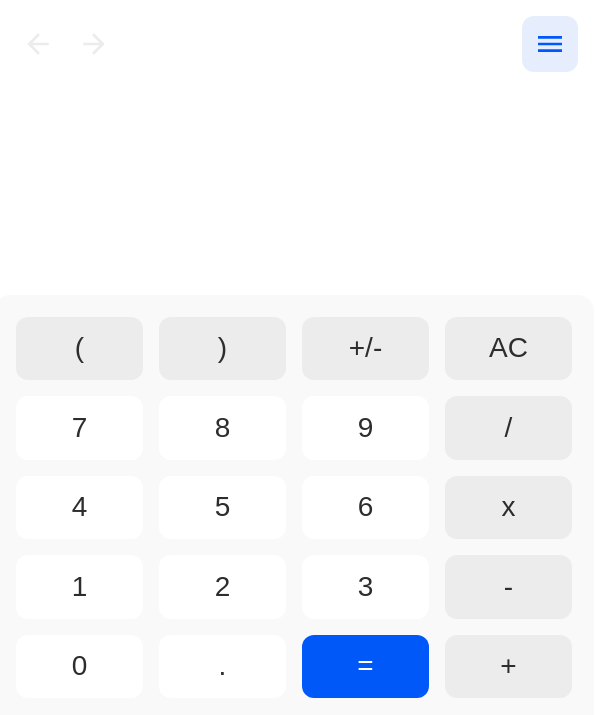
it: Calculator › priority › 2+3x5
Click the button with id "key_2" at (222, 587), box x1=159 y1=555 x2=286 y2=618
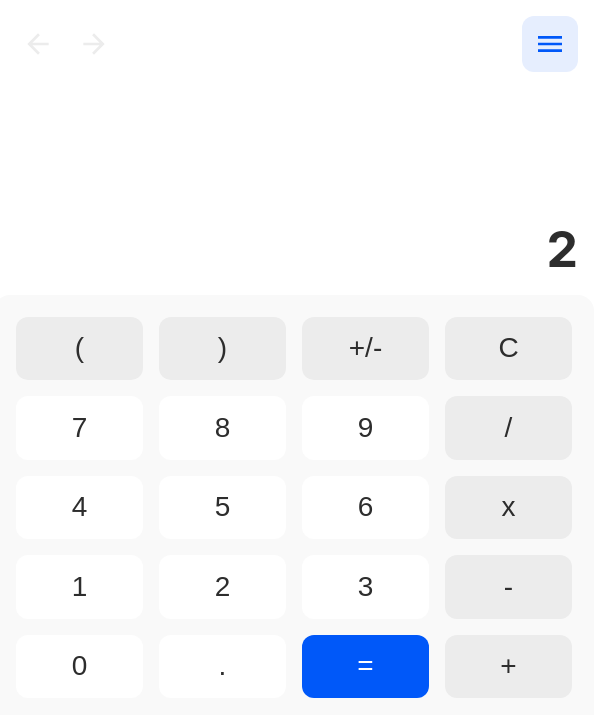
Click the button "+" at (508, 666), box x1=445 y1=634 x2=572 y2=698
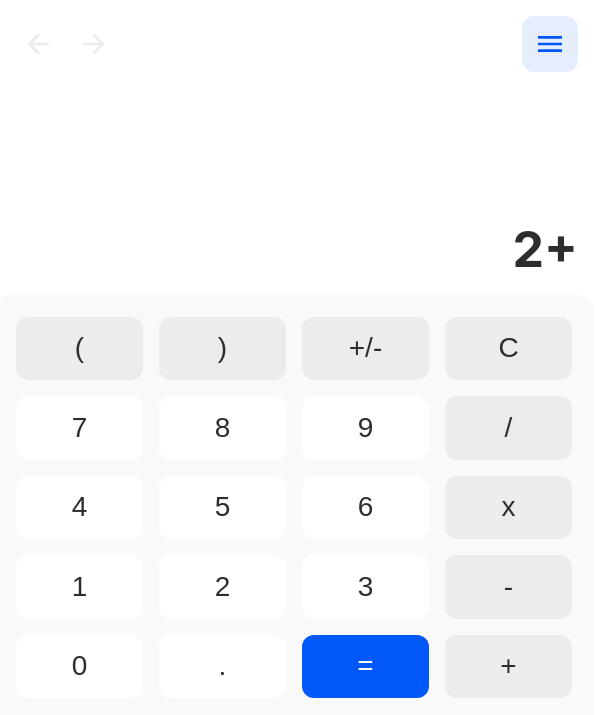
Click the button with id "key_3" at (366, 587), box x1=302 y1=555 x2=429 y2=618
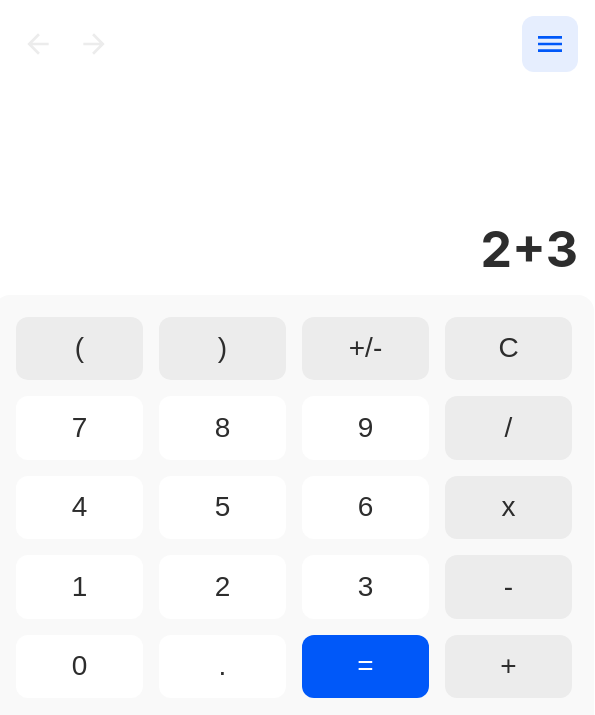
Click the button with id "key_" at (508, 507), box x1=445 y1=476 x2=572 y2=539
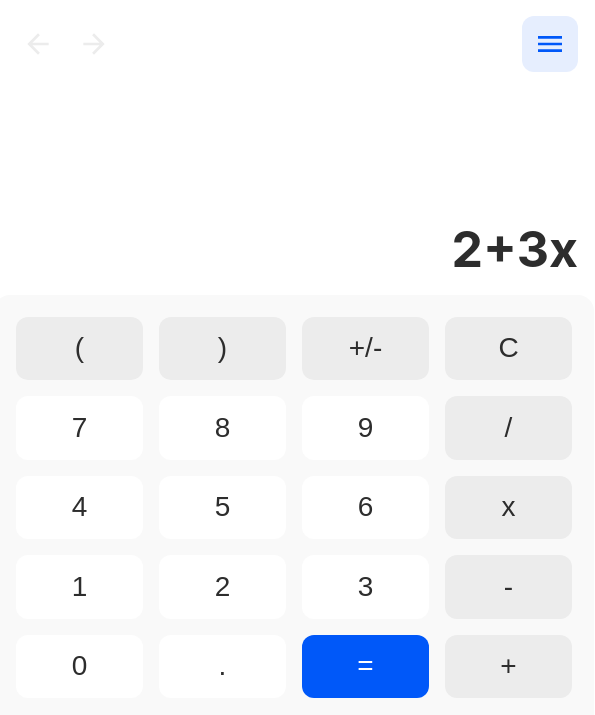
Click the button with id "key_5" at (222, 507), box x1=159 y1=476 x2=286 y2=539
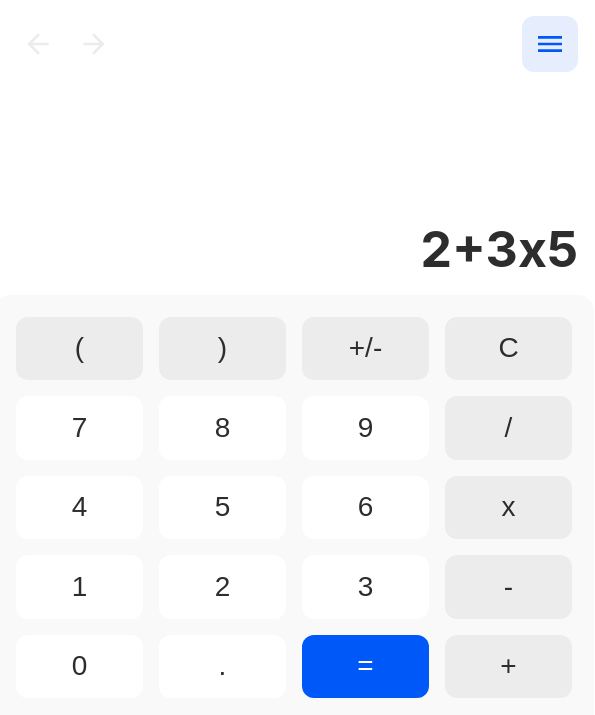
Click the button with id "key_" at (366, 666), box x1=302 y1=634 x2=429 y2=698
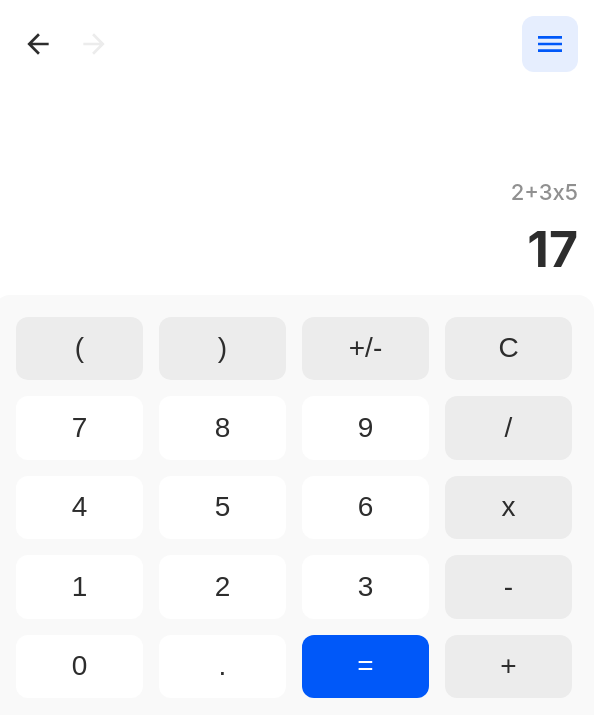
Expected: the text with class "historyLine" reads "2+3x5", x1=511 y1=178 x2=578 y2=204
Expected: the text with class "mainLine" reads "17", x1=527 y1=218 x2=578 y2=278
